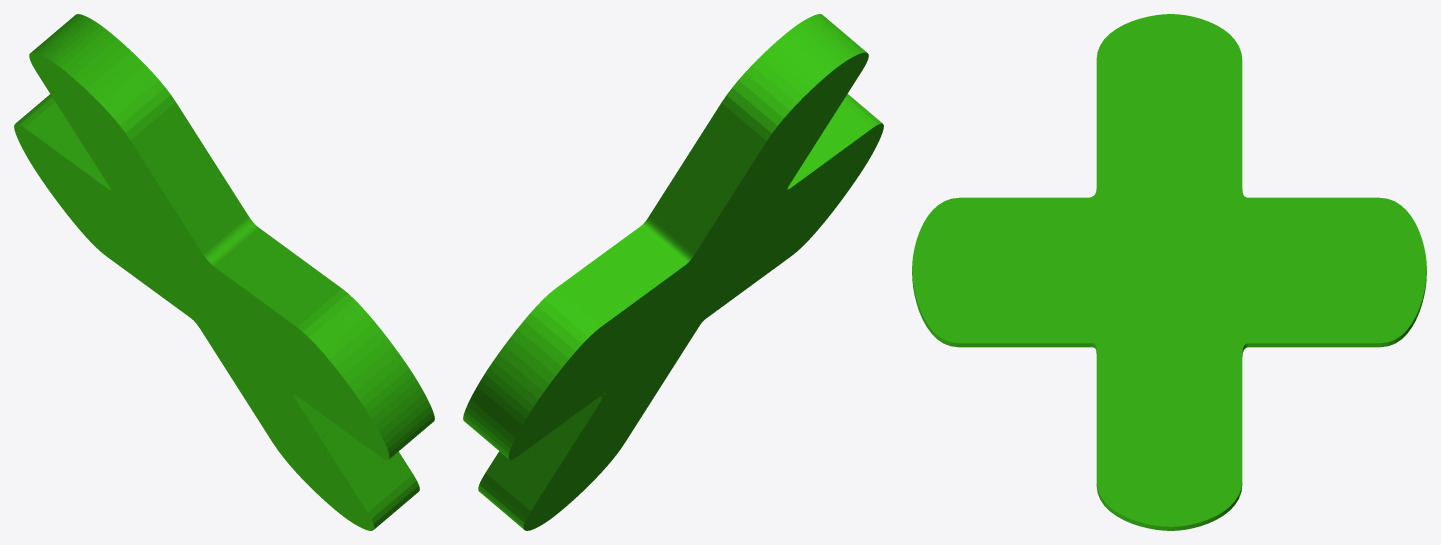
The model's file is HealthBooster.fbx.
3 renders of one model, left to right at view 1: azimuth 30°, elevation 25°; view 2: azimuth 150°, elevation 25°; view 3: azimuth 270°, elevation 25°, orthographic. The views are drawn at different scales.
Visible parts, largest first — view 1: Text; view 2: Text; view 3: Text.
Part boxes in pixels (x1=…): Text: x1=14, y1=14, x2=434, y2=530; Text: x1=463, y1=14, x2=883, y2=530; Text: x1=912, y1=14, x2=1426, y2=530.
Bounding box in the file's own units: 0.8279 × 1.3 × 1.43.
